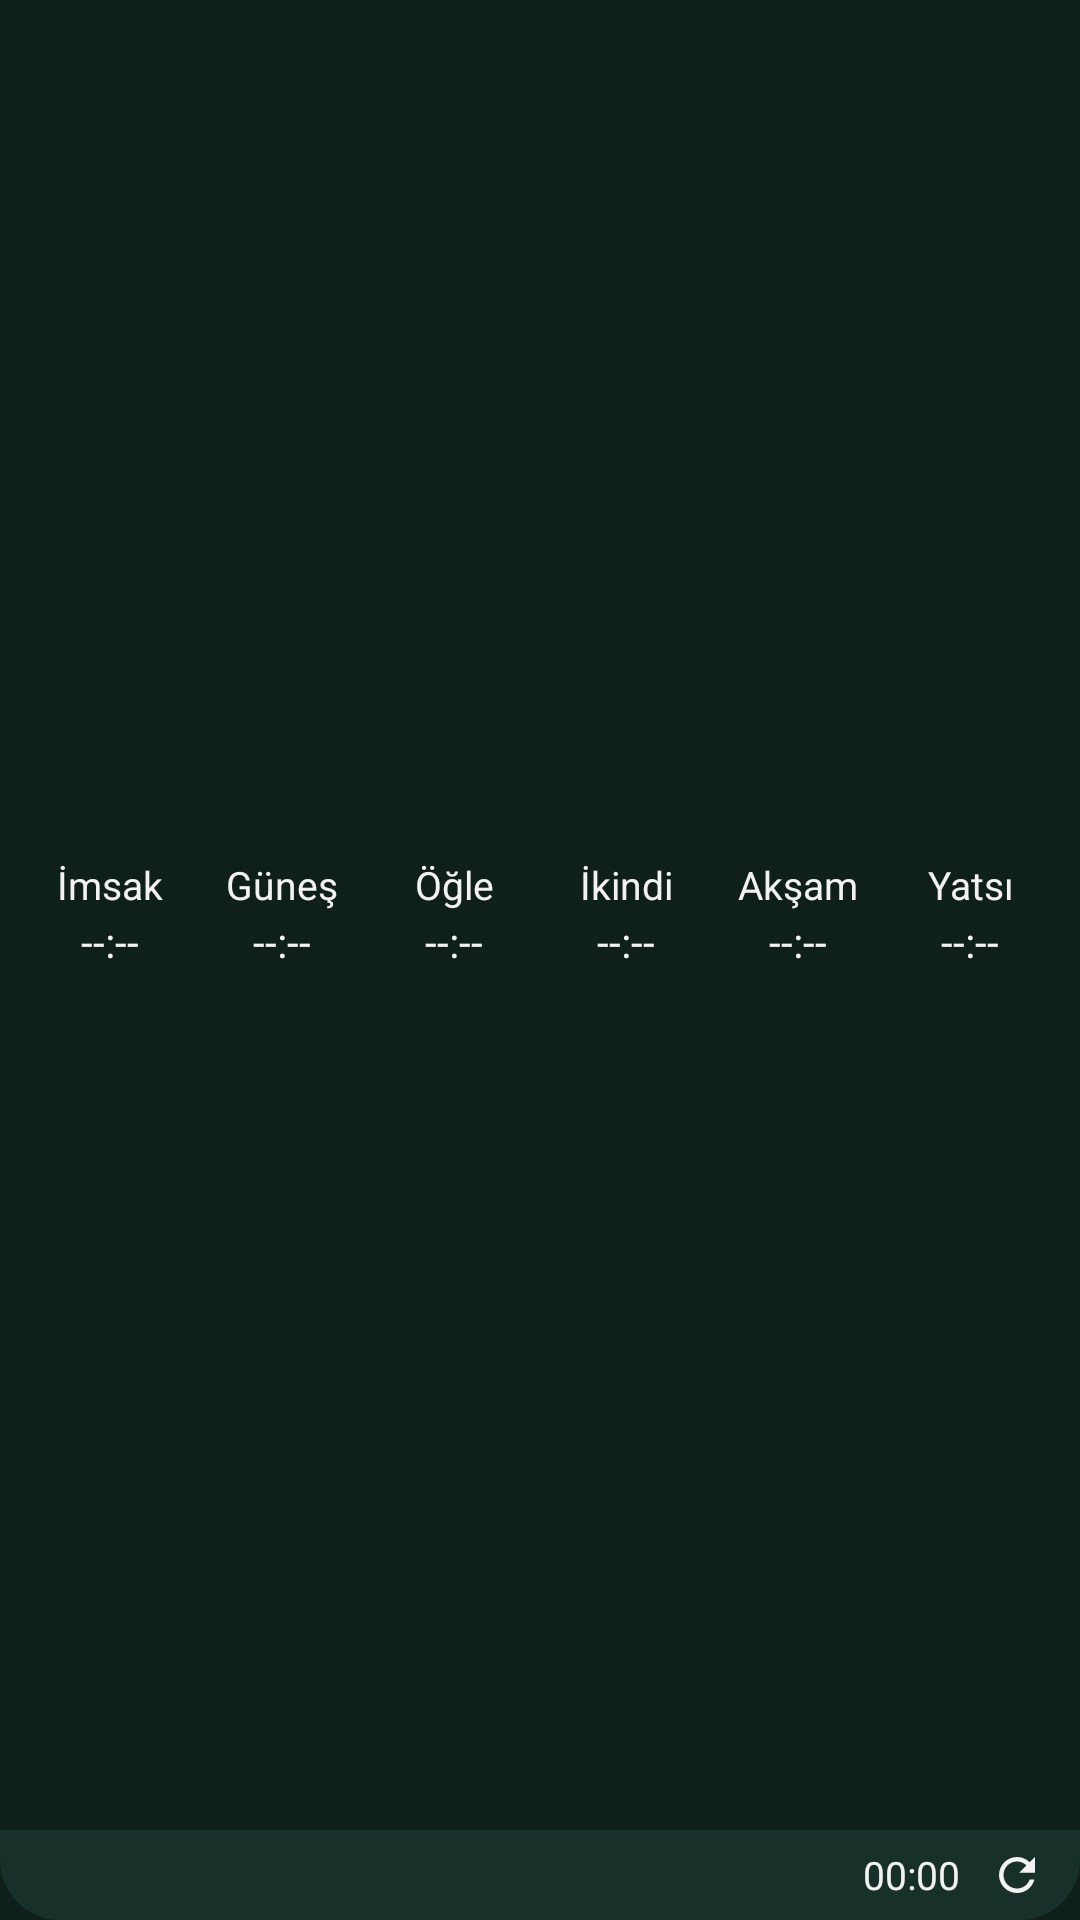

Icon click points for this 1080w x 1920h phone screenshot, format [x,y]:
Konumu ve vakitleri yenile: [1017,1875]
